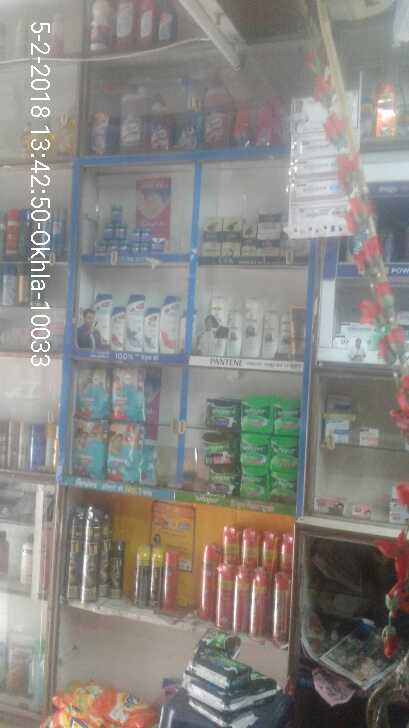vicks: (97, 200, 170, 254)
